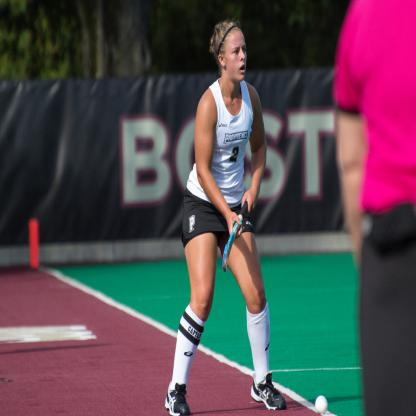Ball: (315, 396, 327, 416)
